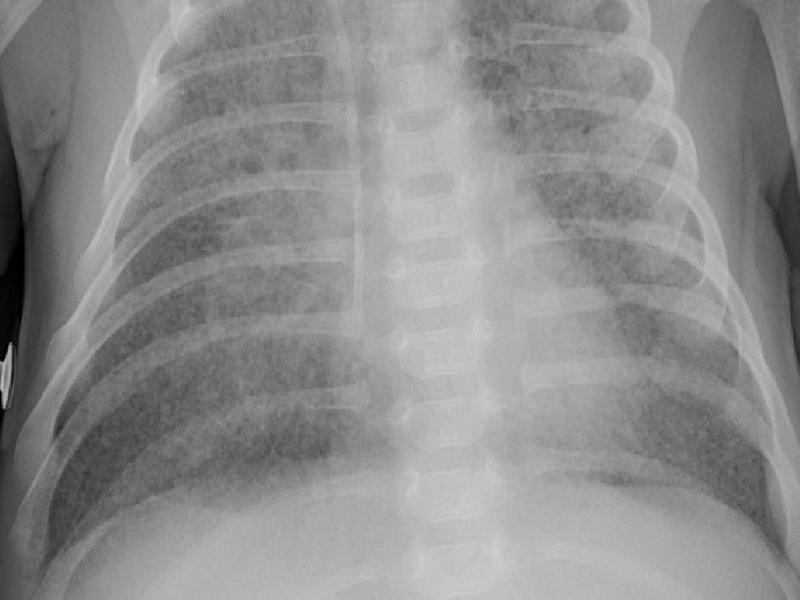PNEUMONIA: (164, 77, 339, 479), (499, 66, 705, 253), (618, 265, 752, 507)
